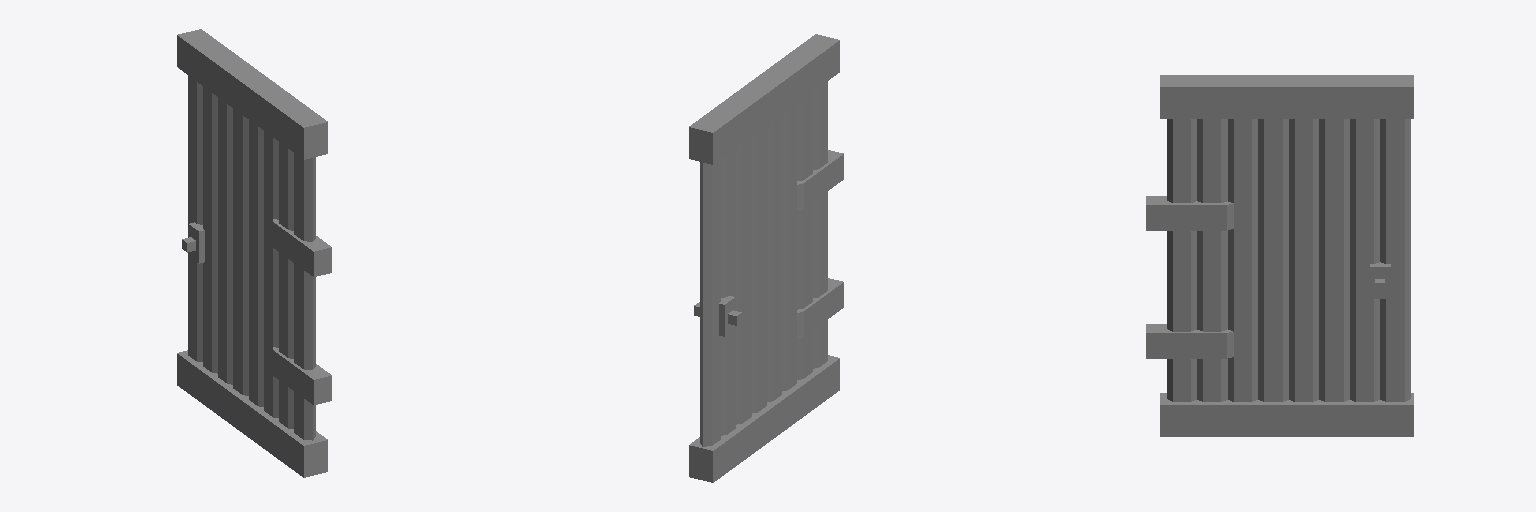
The model's file is Door_Large.obj.
The picture shows the model from 3 angles: view 1: azimuth 30°, elevation 25°; view 2: azimuth 150°, elevation 25°; view 3: azimuth 270°, elevation 25°; orthographic projection.
Parts seen in each view (by area): view 1: Palette; view 2: Palette; view 3: Palette.
Boxes of the visible parts, box(x1,y1,x2,y2) form: Palette: box(177, 29, 331, 477); Palette: box(689, 34, 843, 482); Palette: box(1146, 75, 1413, 436).
Bounding box in the file's own units: 0.7 × 5.46 × 3.79.